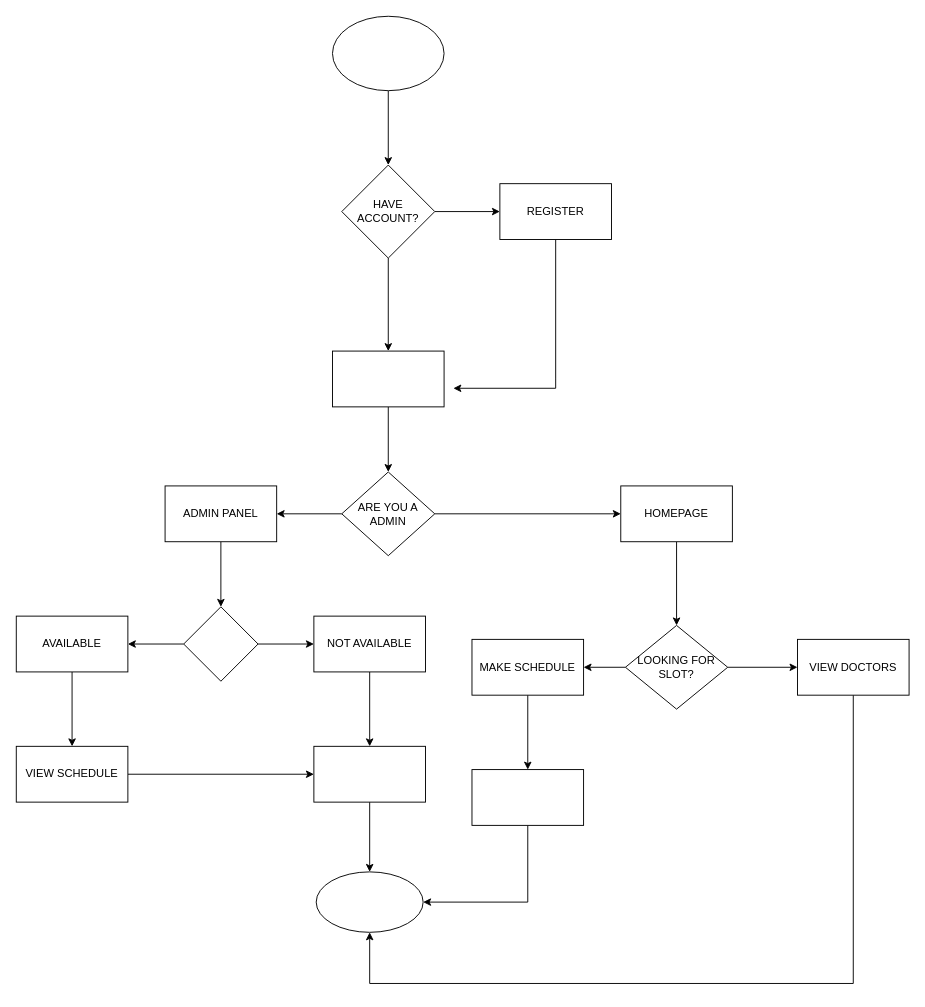
Some shapes in this 925 by 1007 pixel diagram are drawn without their labels. The shapes that lost their labels are listed below. From the top down, each one's centre as x and y in pixels, then its label:
At [388,53]: "START".
At [388,378]: "LOG-IN".
At [220,643]: "UPDATE STATUS".
At [369,773]: "MAKE REPORT".
At [527,797]: "WAIT FOR APPOINMENT".
At [369,901]: "END".
